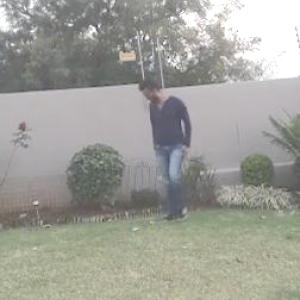follow: (146, 73, 196, 226)
